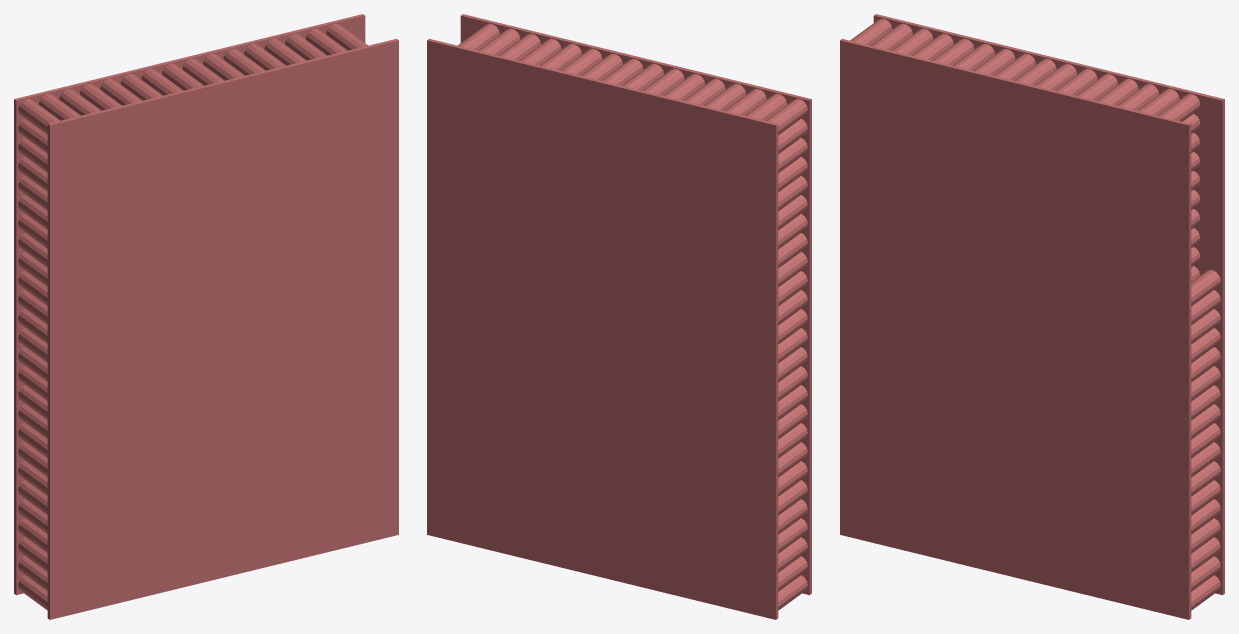
Rendered from BAT-TIER2.glb.
3 renders of one model, left to right at view 1: azimuth 30°, elevation 25°; view 2: azimuth 150°, elevation 25°; view 3: azimuth 330°, elevation 25°, orthographic.
Parts seen in each view (by area): view 1: geometry_0; view 2: geometry_0; view 3: geometry_0.
Part boxes in pixels (<box>): geometry_0: <box>14,14,398,619</box>; geometry_0: <box>427,14,811,619</box>; geometry_0: <box>840,14,1224,619</box>.
Bounding box in the file's own units: 450 × 609 × 80.4.
